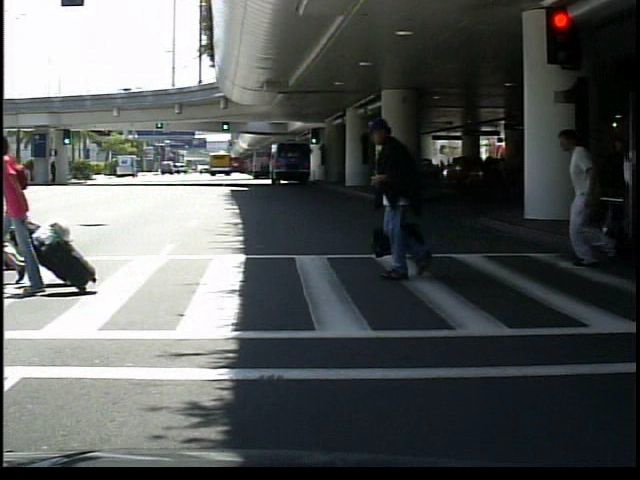person: (354, 114, 450, 283), (558, 113, 621, 271)
